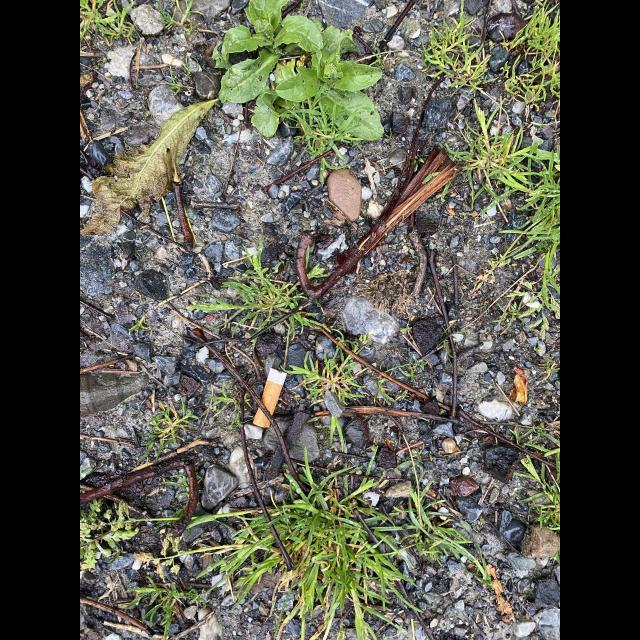cigarette: (252, 367, 287, 428)
